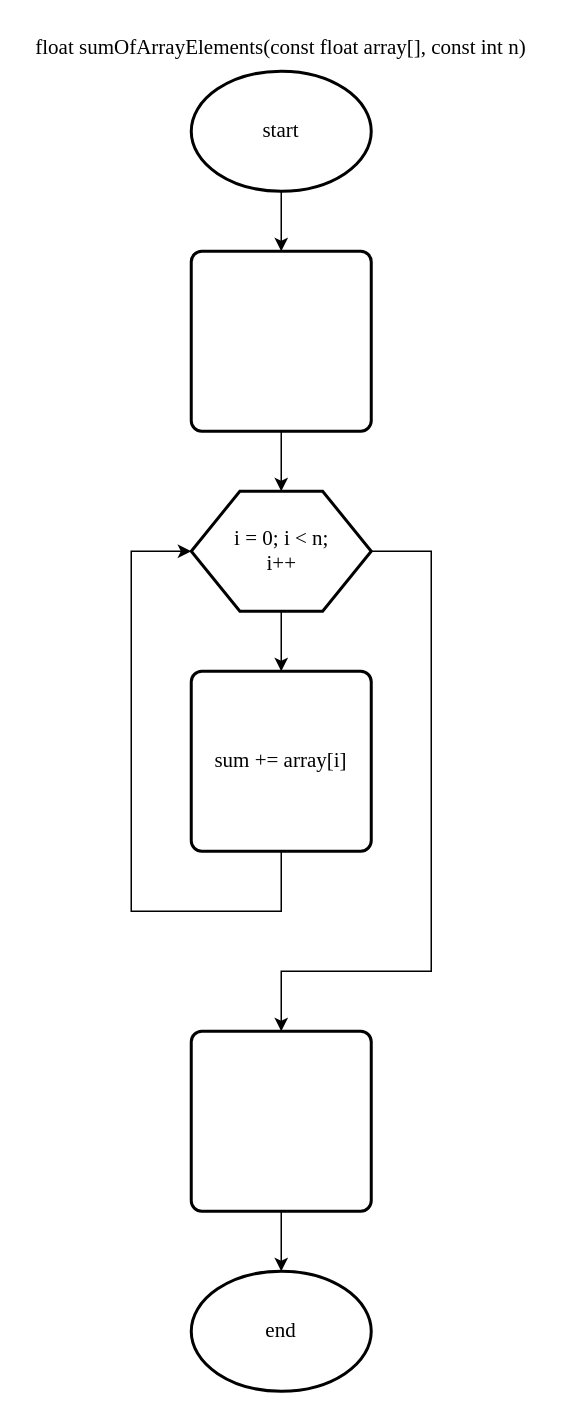
The diagram is 561 pixels wide and 1418 high, and some of its shapes have lost their labels. The box of each missing label's shape, as (x1, y1, x2, y2) in pixels:
return sum: (189, 1029, 372, 1212)
sum = 0: (189, 249, 372, 432)
